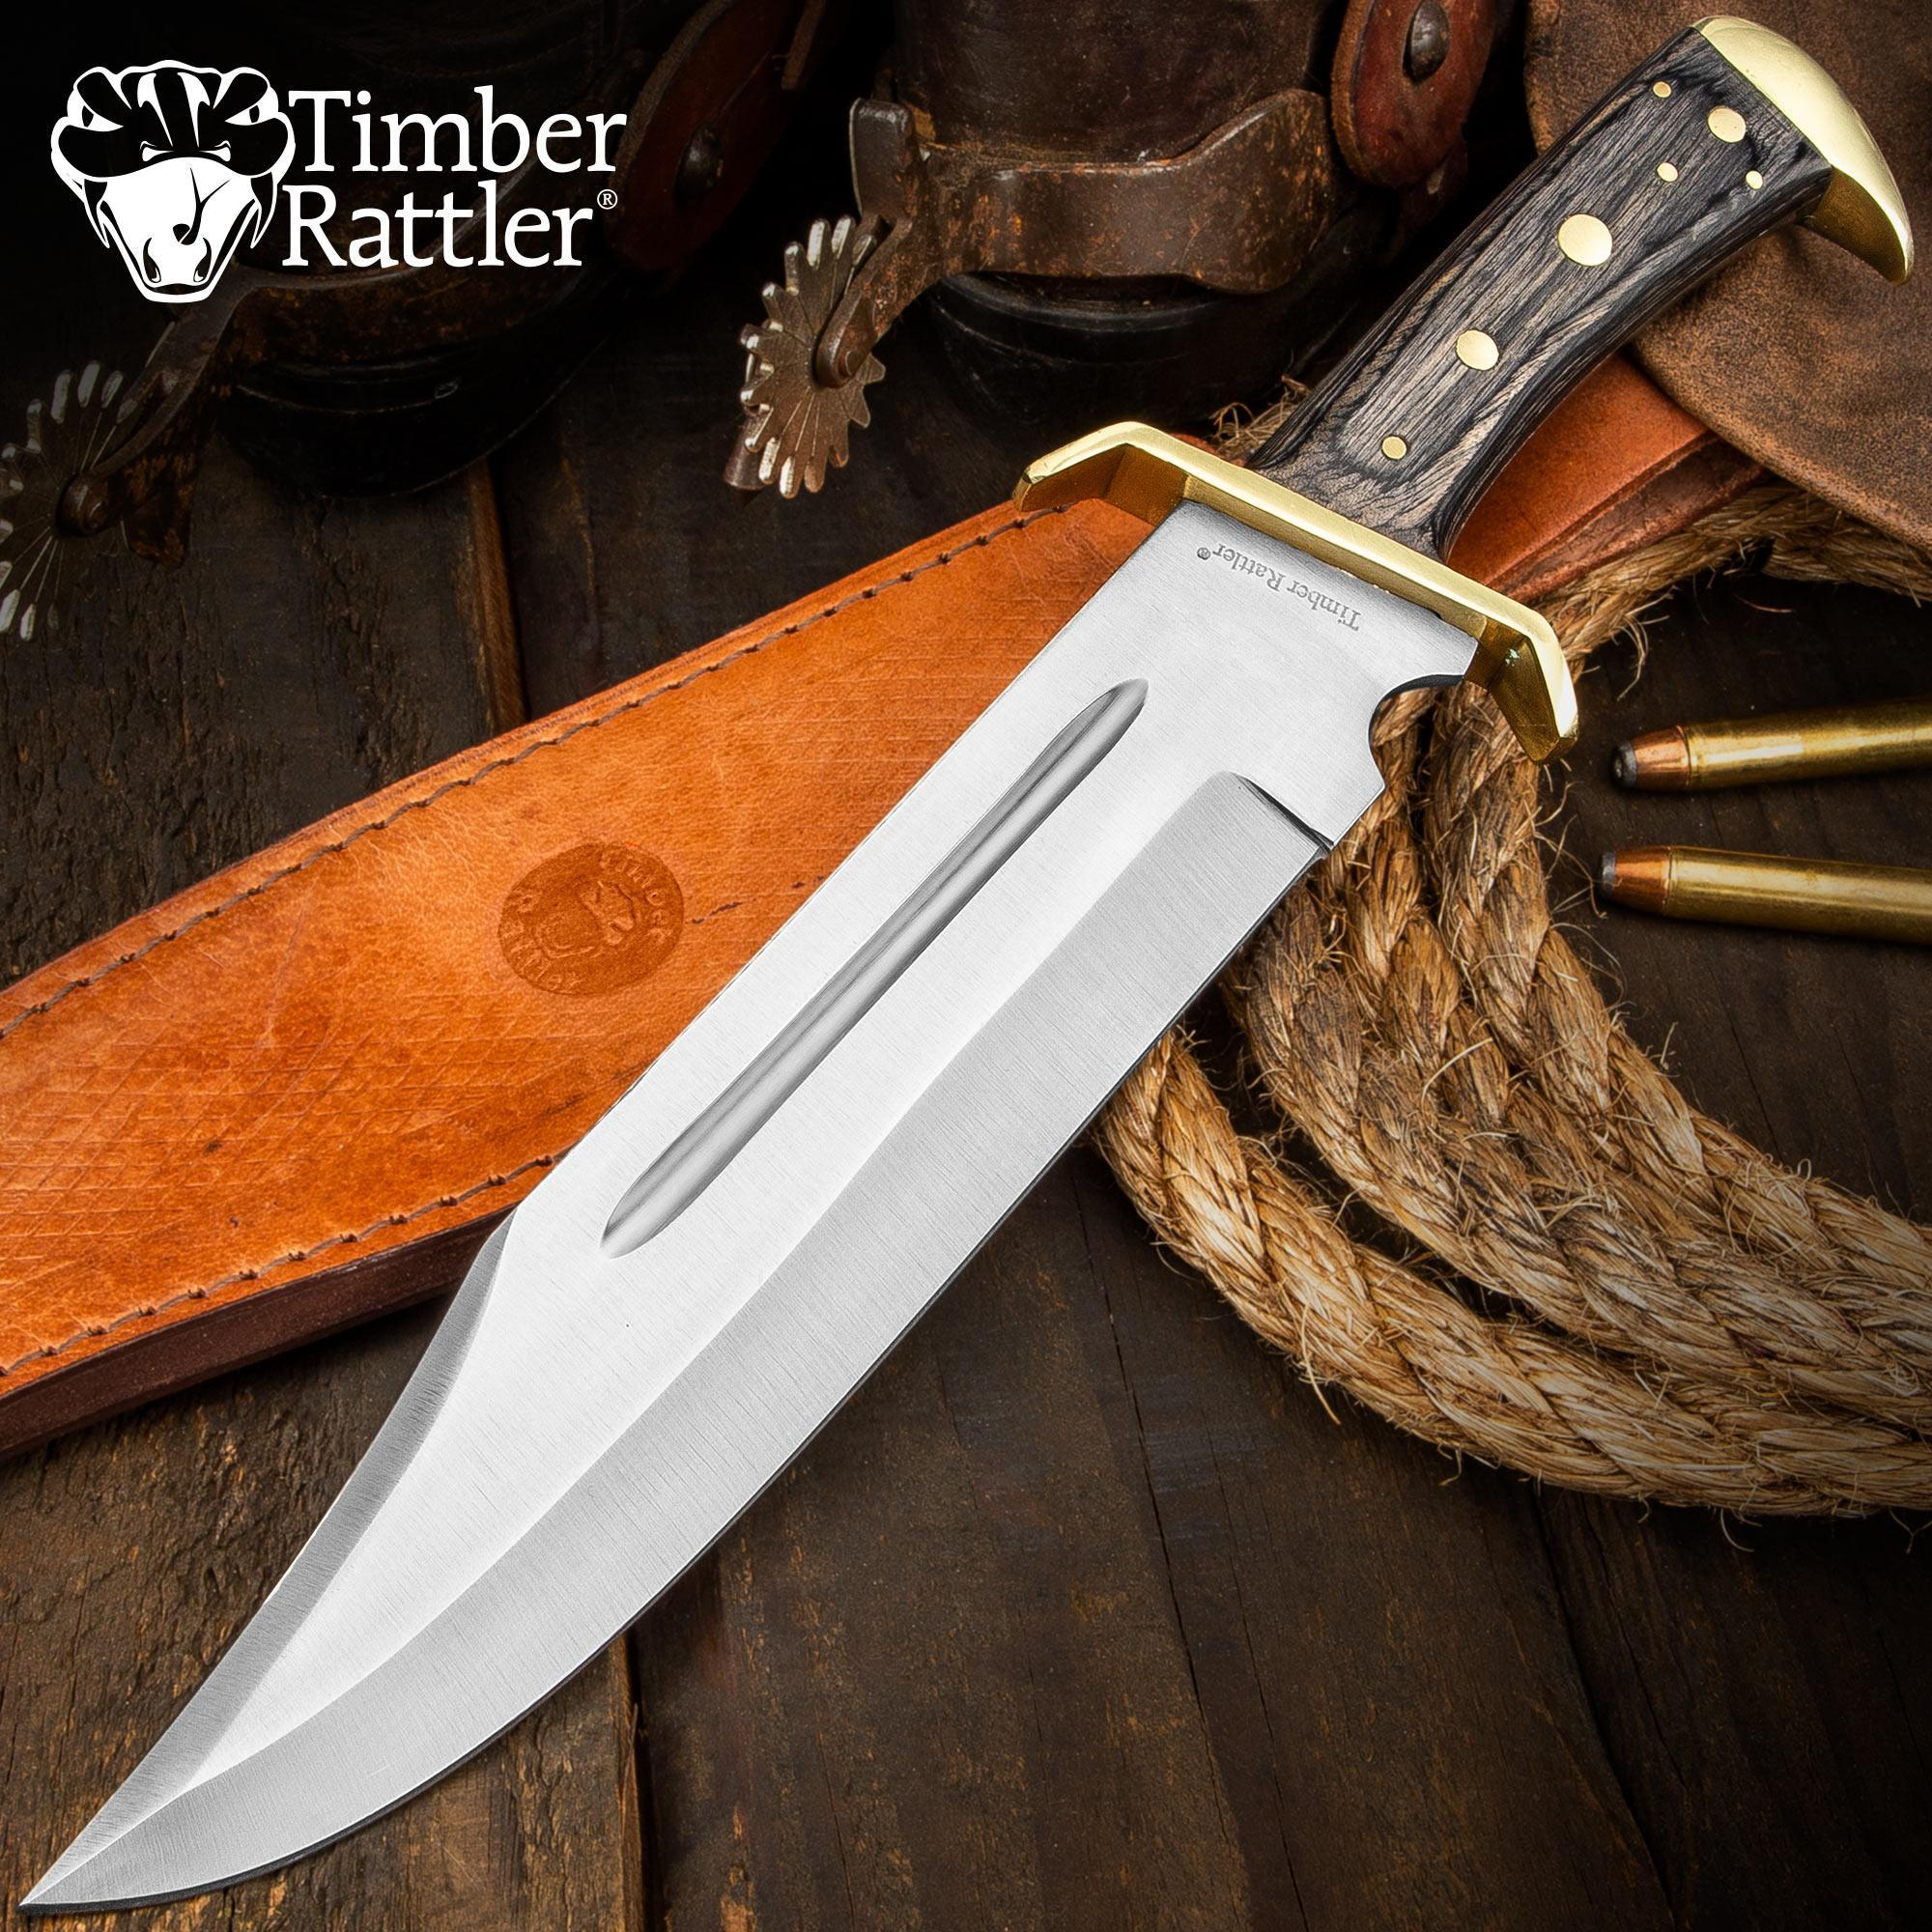faca: (30, 28, 1909, 1907), (568, 1405, 593, 1431)
